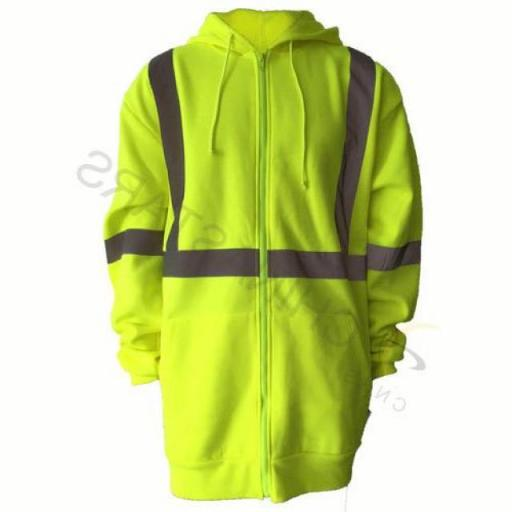vest: (89, 3, 446, 512)
